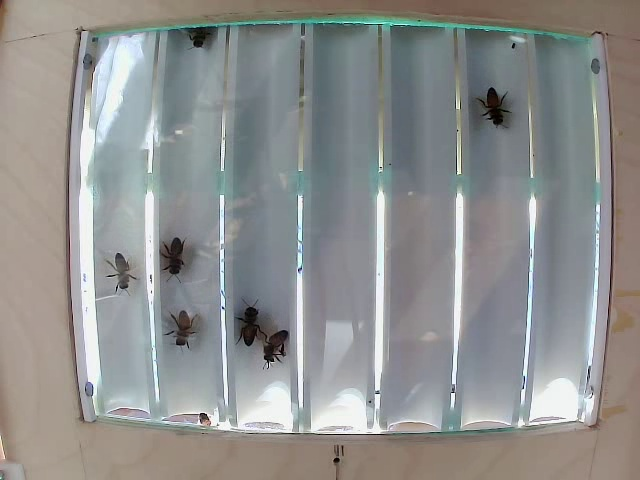bee: (152, 226, 196, 276), (232, 307, 265, 345), (168, 310, 202, 345), (102, 259, 146, 286), (484, 86, 505, 131), (263, 331, 289, 362)
